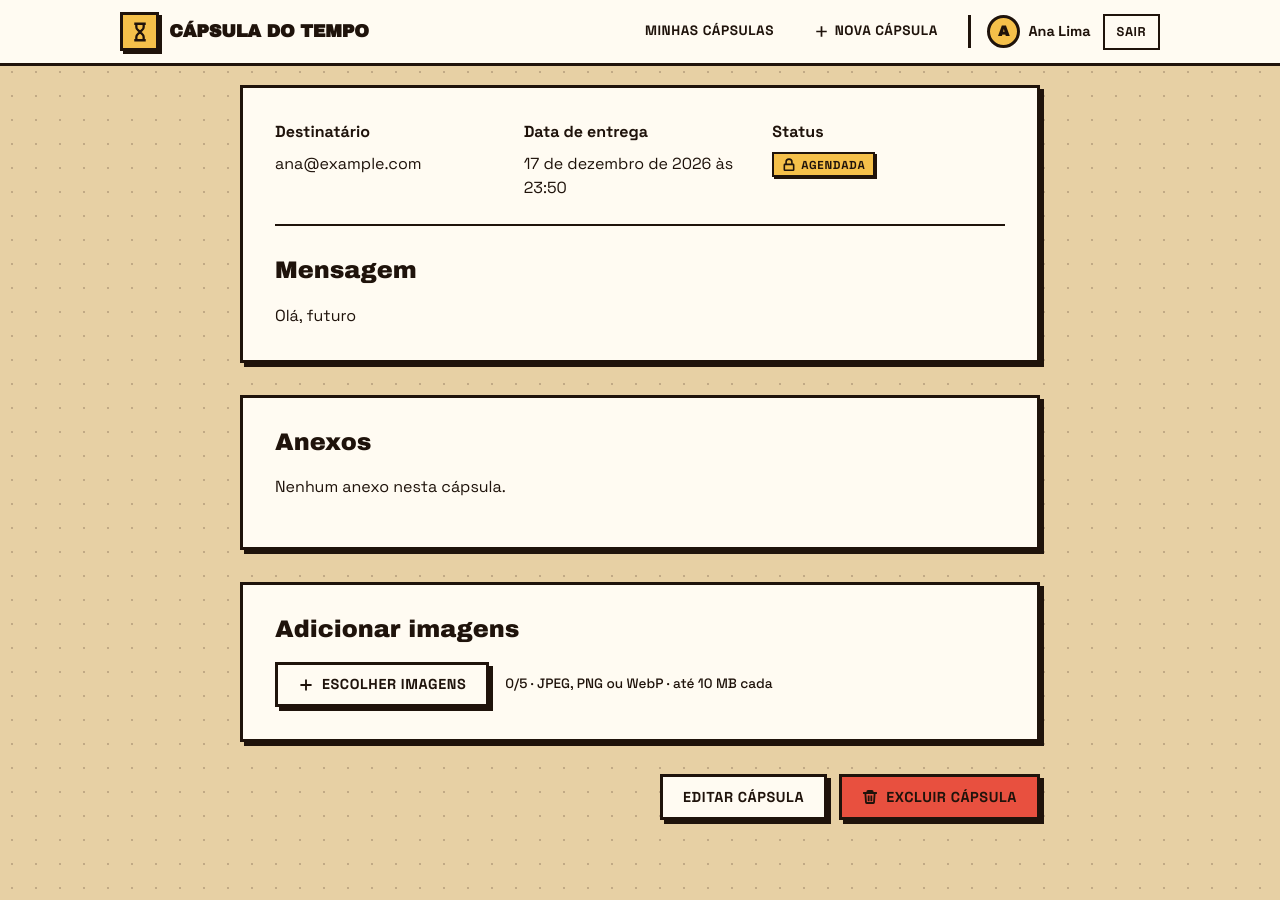
Test: editing a scheduled capsule › shows validation errors returned by the API on the fields
(page scrolled)
Click the button "Editar cápsula" at (744, 797), box [660,774,827,820]
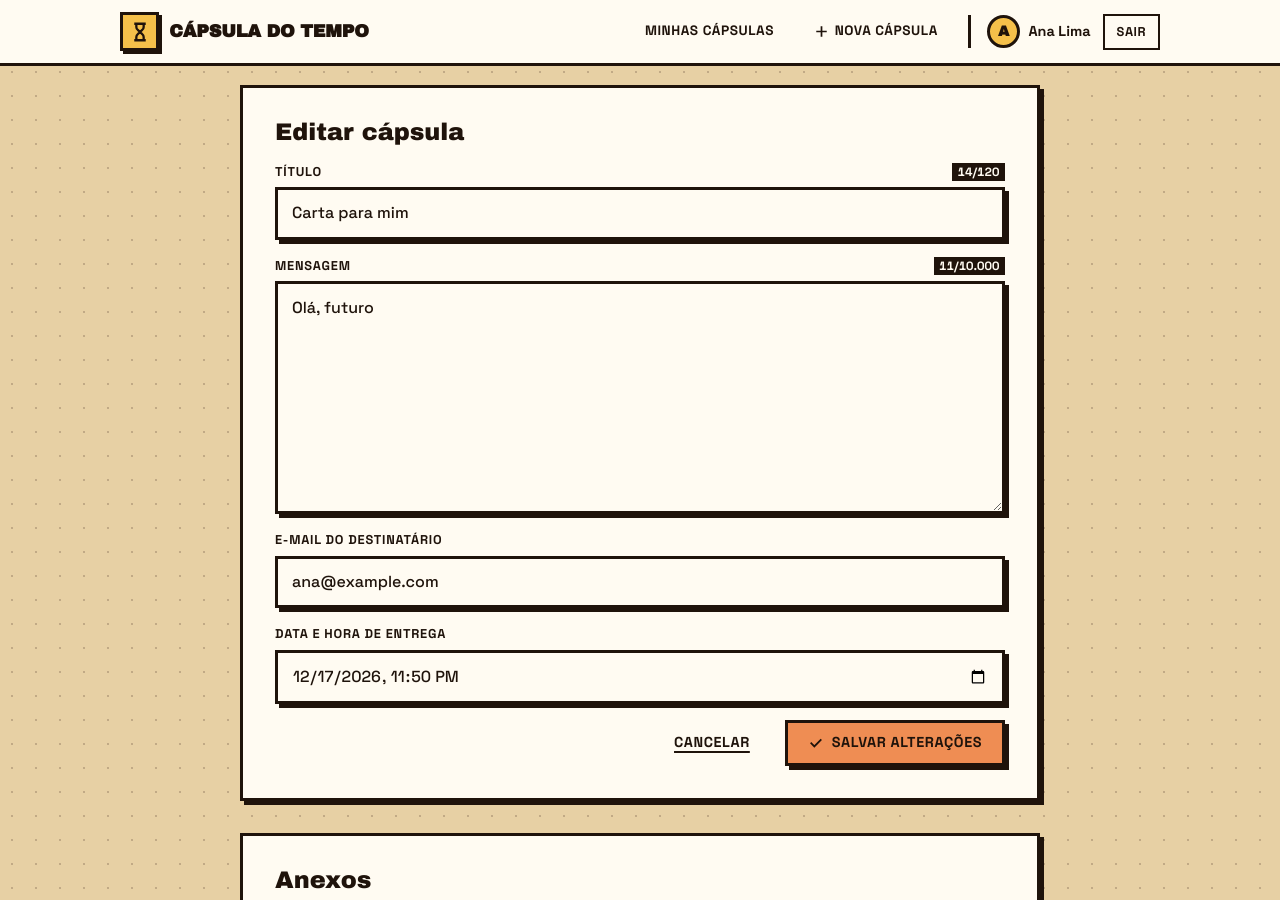
Replace the text in the field labelled "Título" with "Outro" at (640, 213), box [275,187,1005,240]
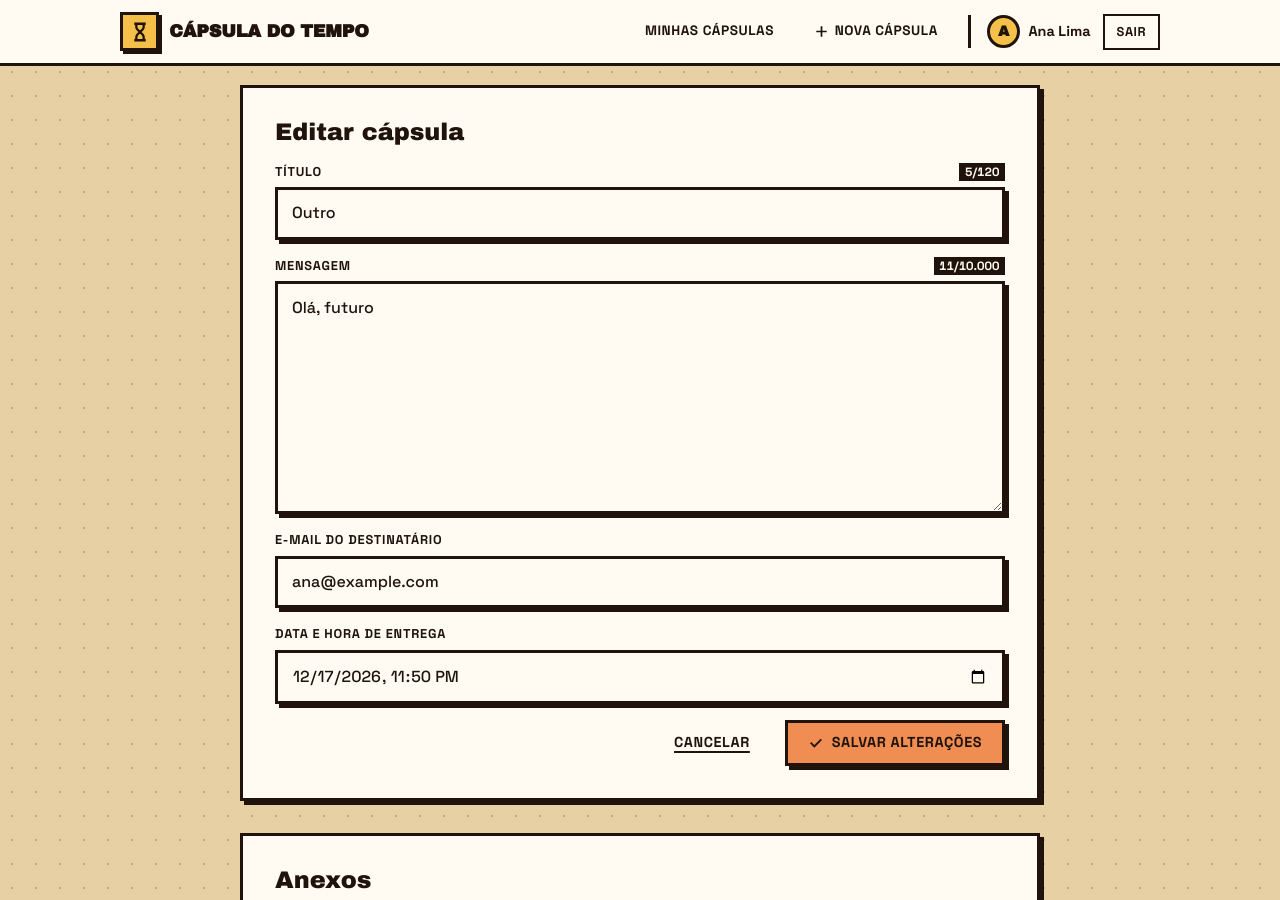
Click the button "Salvar alterações" at (895, 743), box [785,720,1005,766]
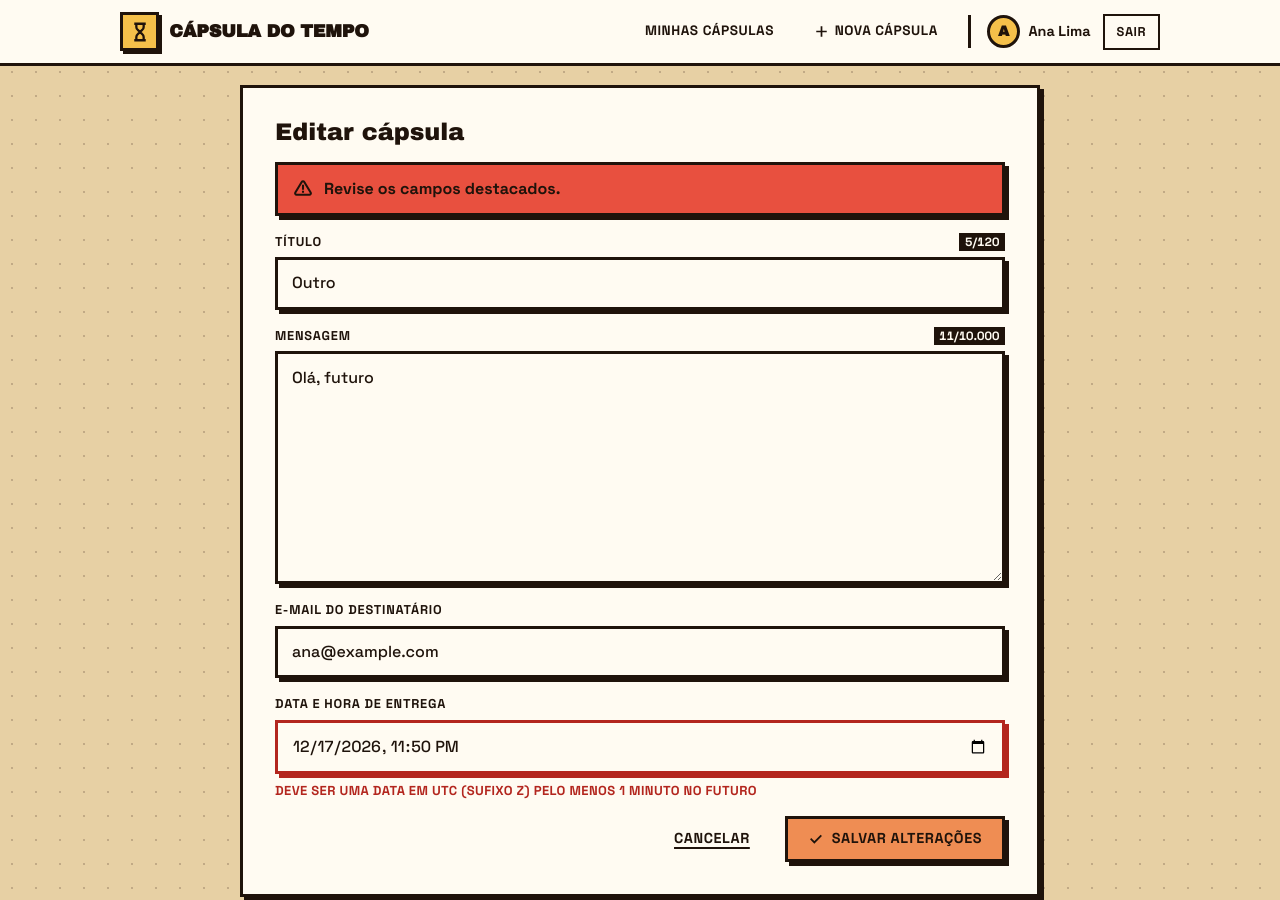
expect the text "Deve ser uma data em UTC (sufixo Z) pelo menos 1 minuto no futuro" is shown: met, box [275,782,757,799]
expect the text "Revise os campos destacados." is shown: met, box [324,178,560,199]
